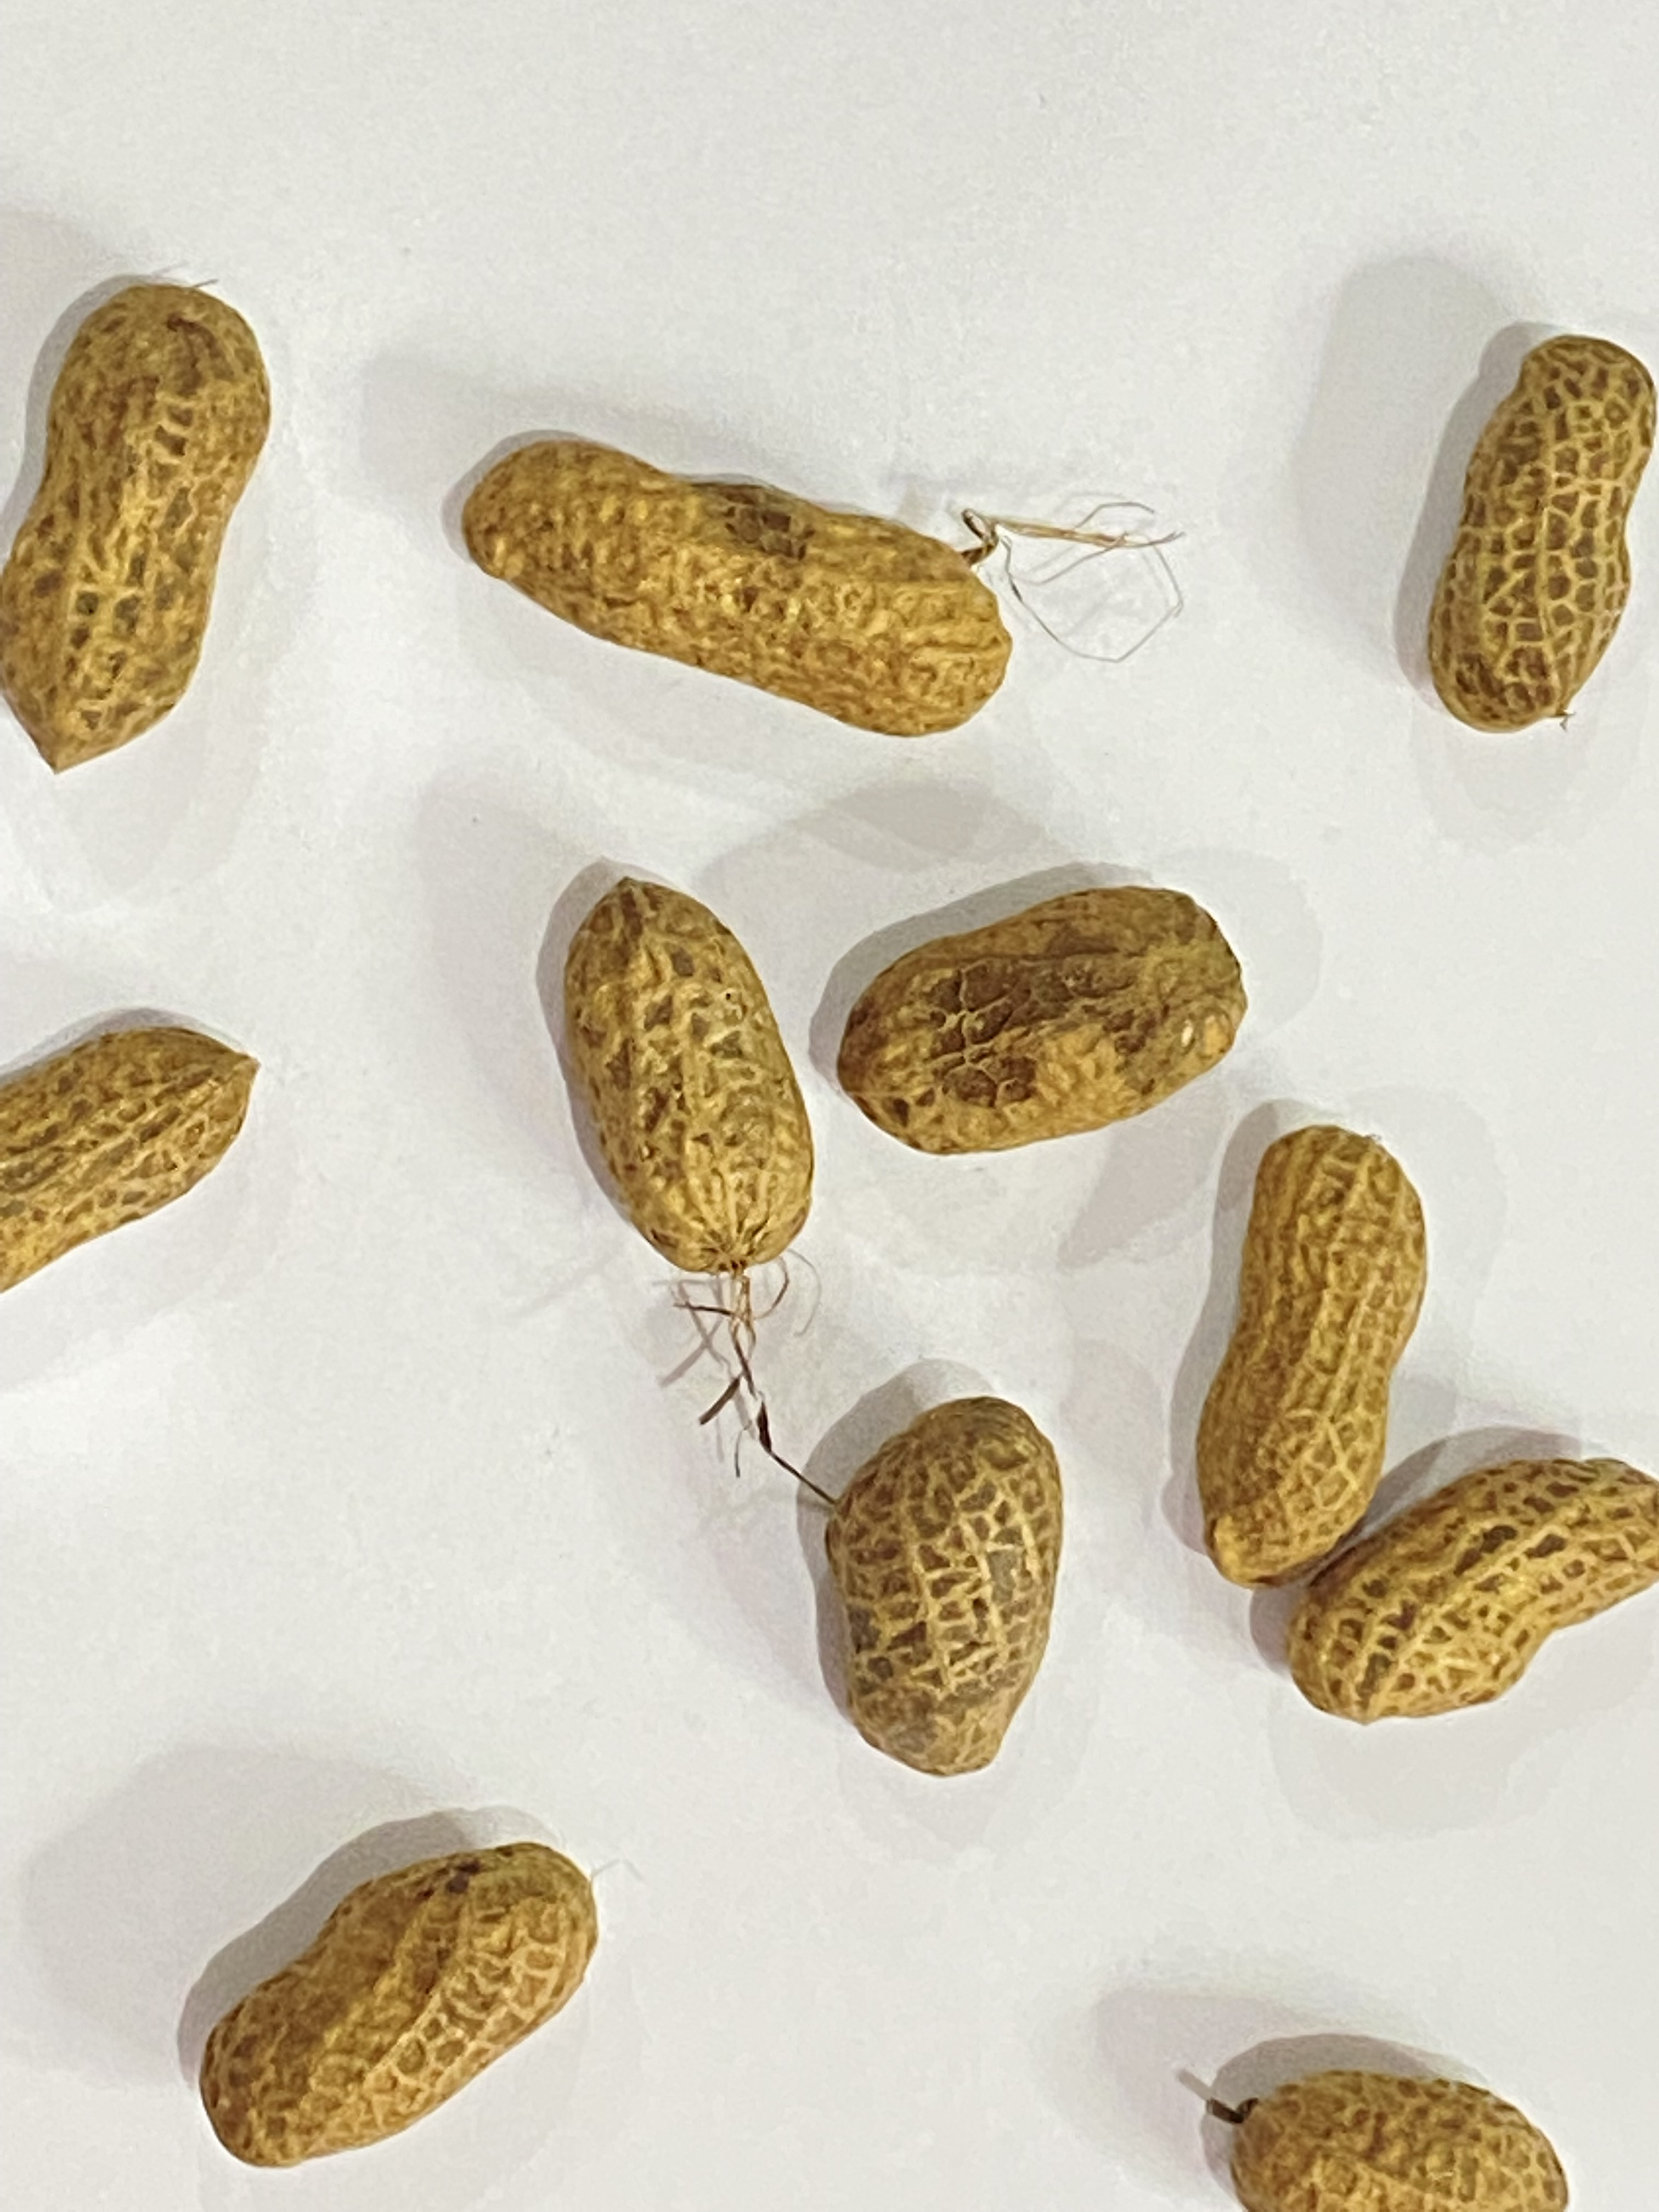kacang1: (828, 1397, 1075, 1778)
kacang2: (0, 275, 293, 773), (186, 1839, 615, 2172), (828, 880, 1243, 1155), (547, 876, 831, 1277), (1190, 1120, 1431, 1592), (1417, 307, 1659, 735)
kacang3: (460, 416, 1012, 738)
